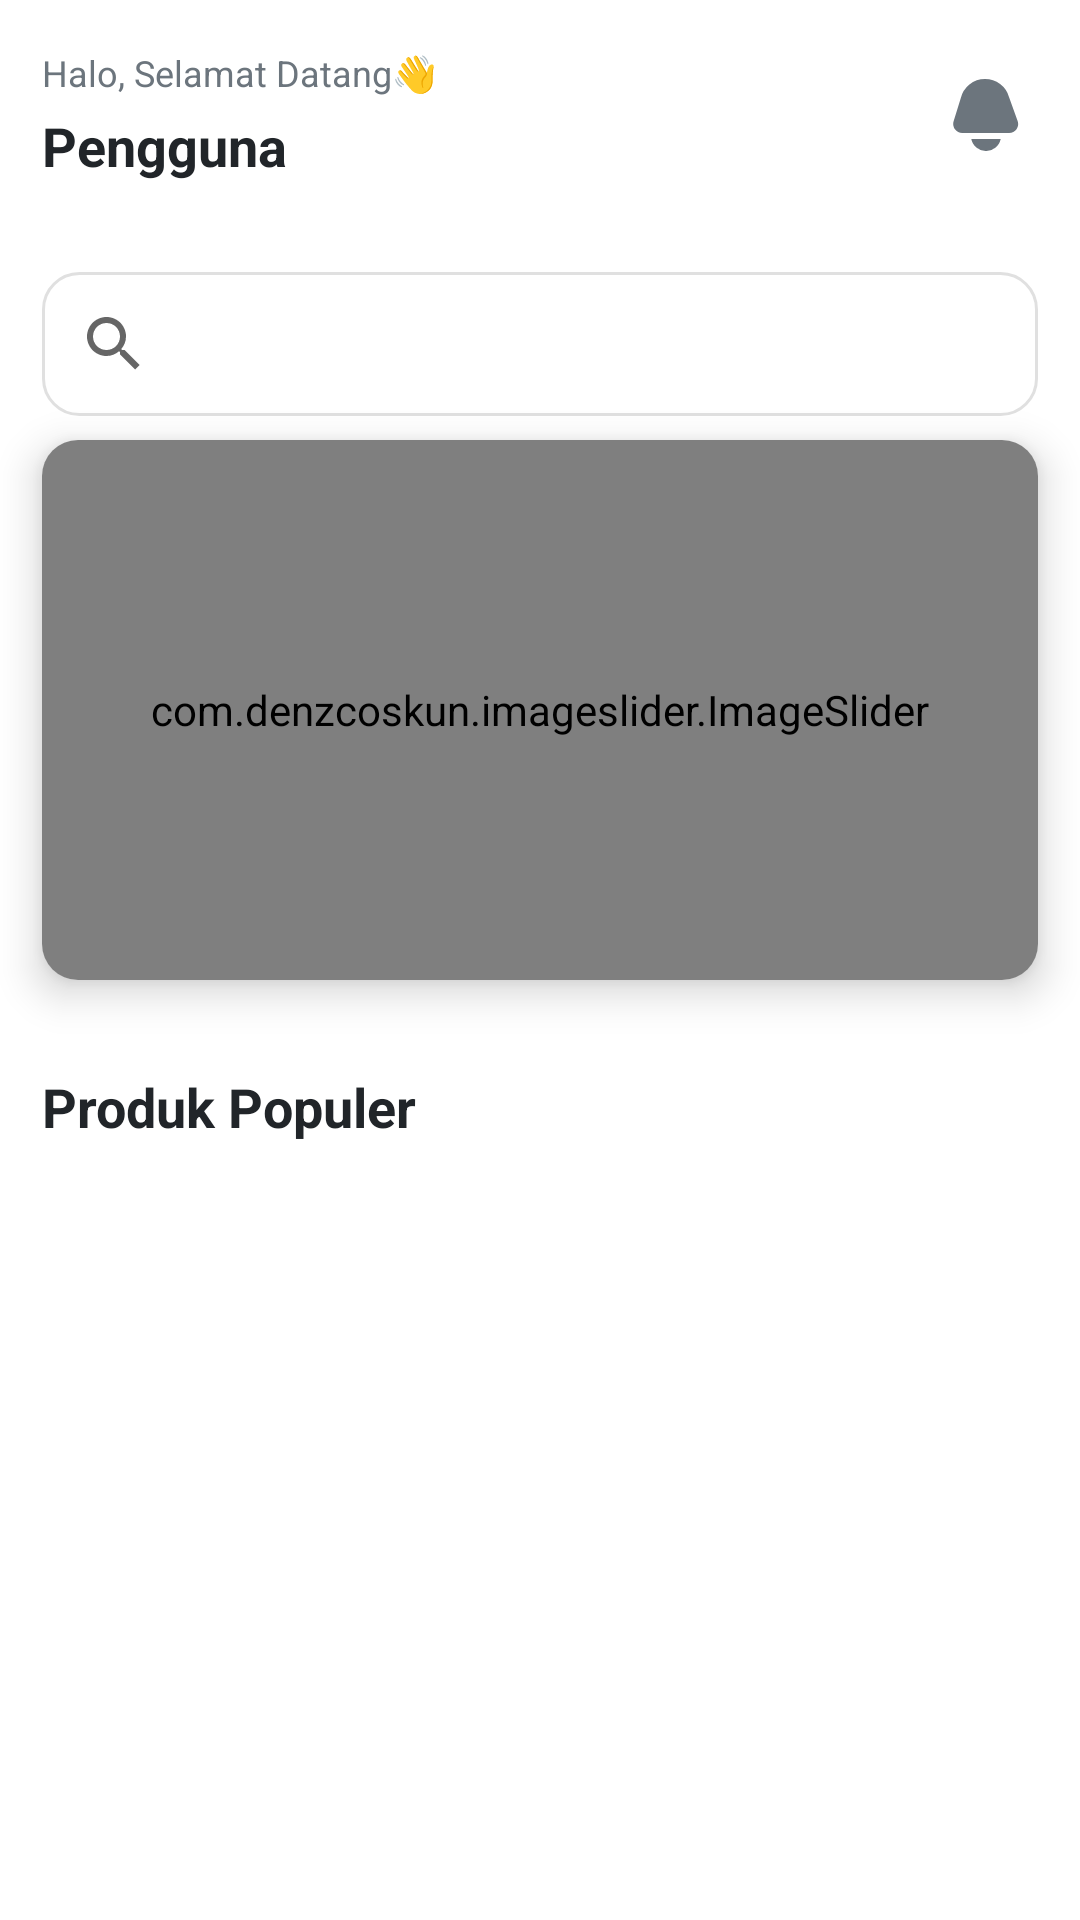

Screen size 1080×1920. Icon name, then its box in pixels as (x1, y1, x2, y2):
Notifikasi: (953, 79, 1018, 151)
